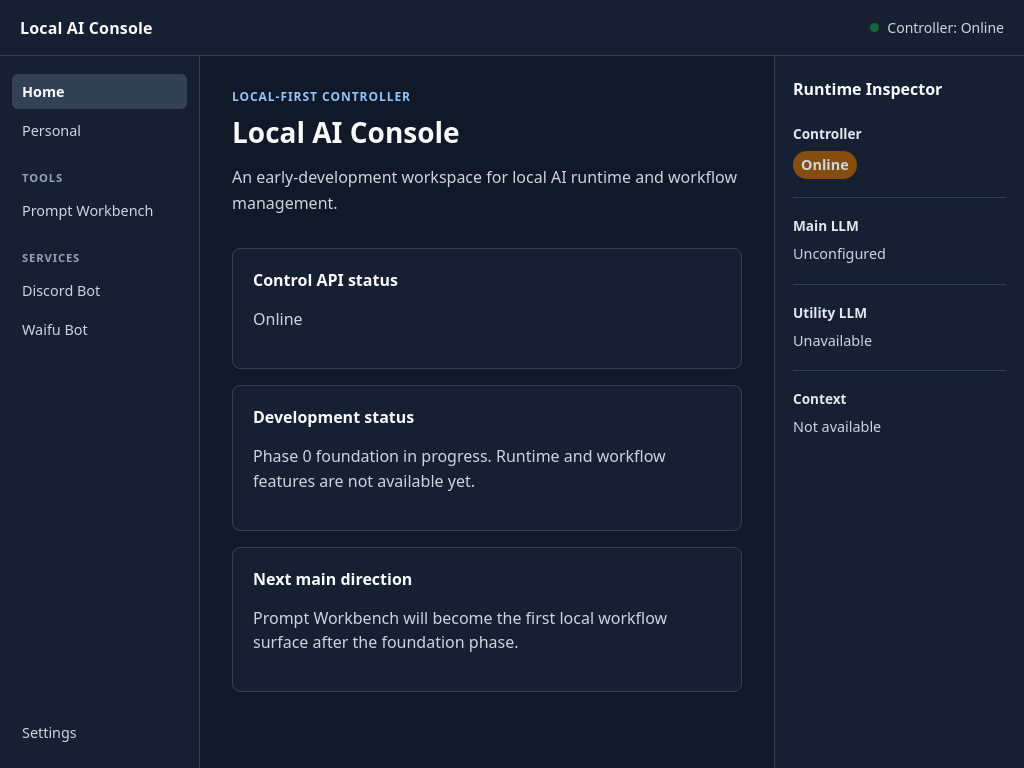
Test: Local AI Console web shell › navigates to the first-class Prompt Workbench route and shows its persistent three-part workspace
Click the link "Prompt Workbench": (88, 210) [22, 201, 153, 220]
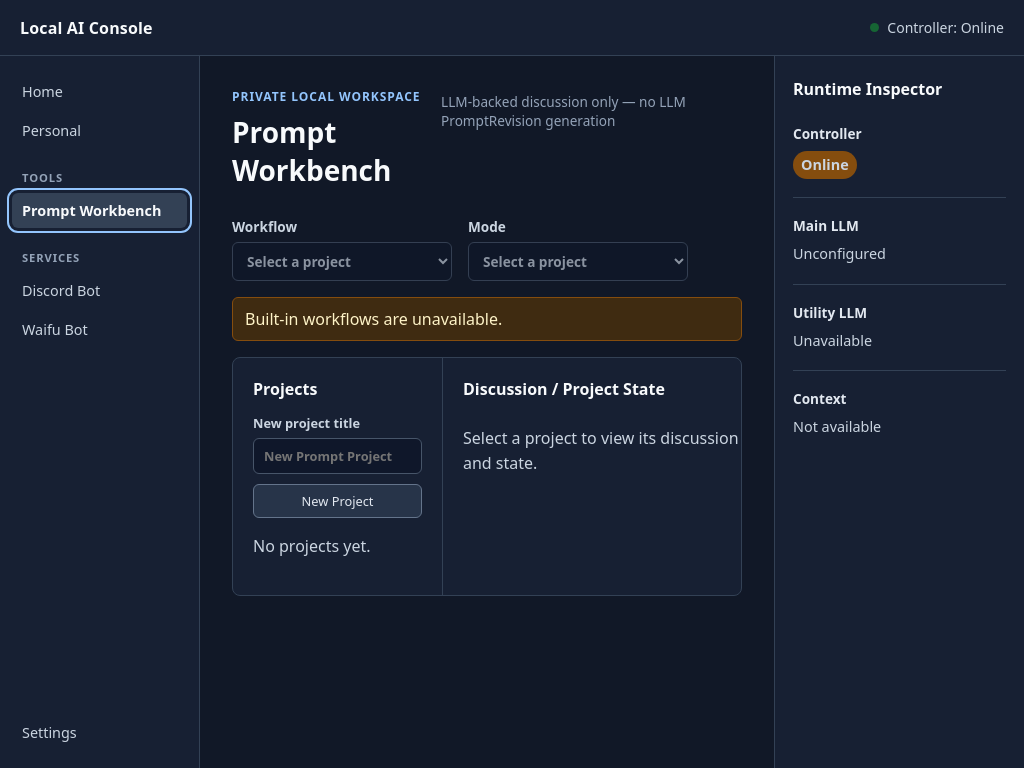
Now the heading "Projects" is shown, box [253, 378, 317, 400]
Now the heading "Discussion / Project State" is shown, box [463, 378, 665, 400]
Now the text "No projects yet." is shown, box [253, 535, 370, 557]
